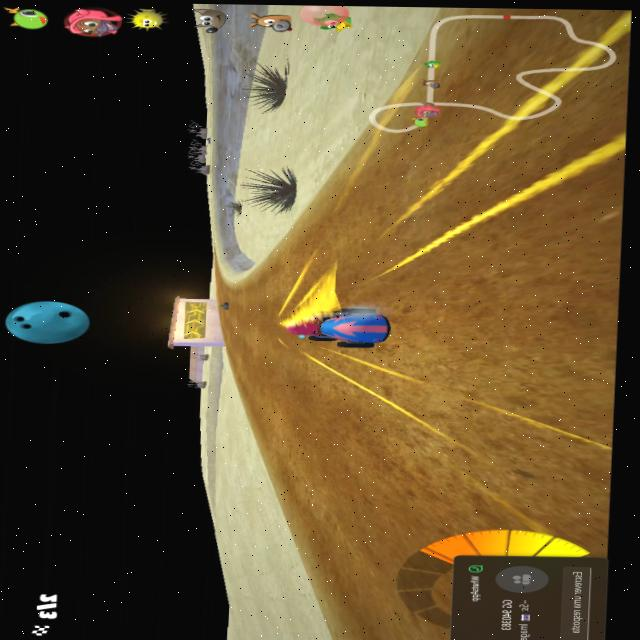enemy_kart: (216, 299, 228, 309)
player_kart: (288, 296, 398, 350)
track: (275, 348, 625, 556), (431, 12, 640, 352), (295, 556, 465, 640), (396, 47, 441, 350), (351, 126, 407, 297), (310, 190, 351, 299), (235, 343, 280, 406), (248, 405, 287, 476), (232, 302, 284, 342), (289, 226, 315, 298), (260, 261, 289, 303), (214, 315, 234, 347), (241, 276, 261, 302), (213, 282, 240, 299), (206, 255, 221, 280)
